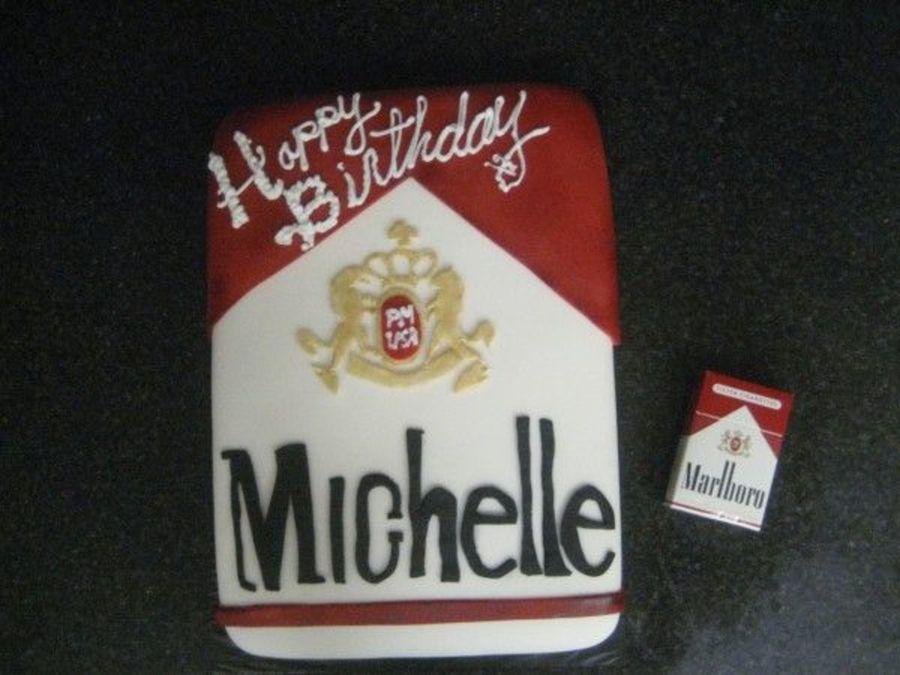marlboro_red: (686, 383, 775, 521)
